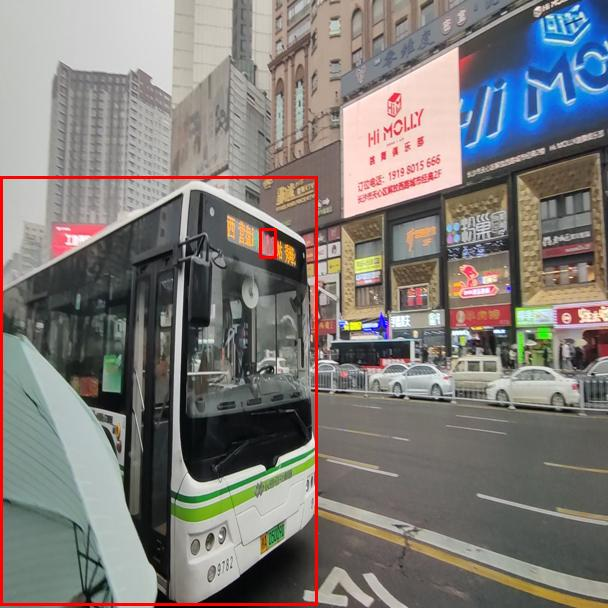bus: (0, 176, 317, 605)
screen: (259, 228, 276, 258)
